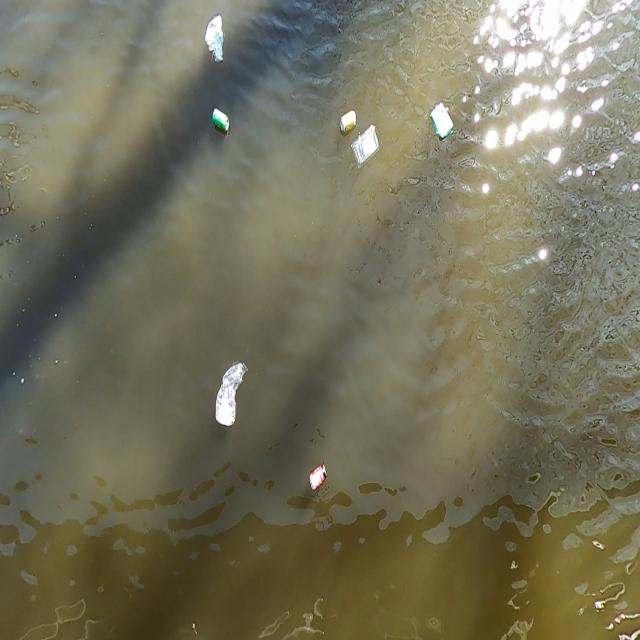Non plastique: (335, 103, 360, 137), (210, 108, 234, 138), (308, 462, 329, 494)
